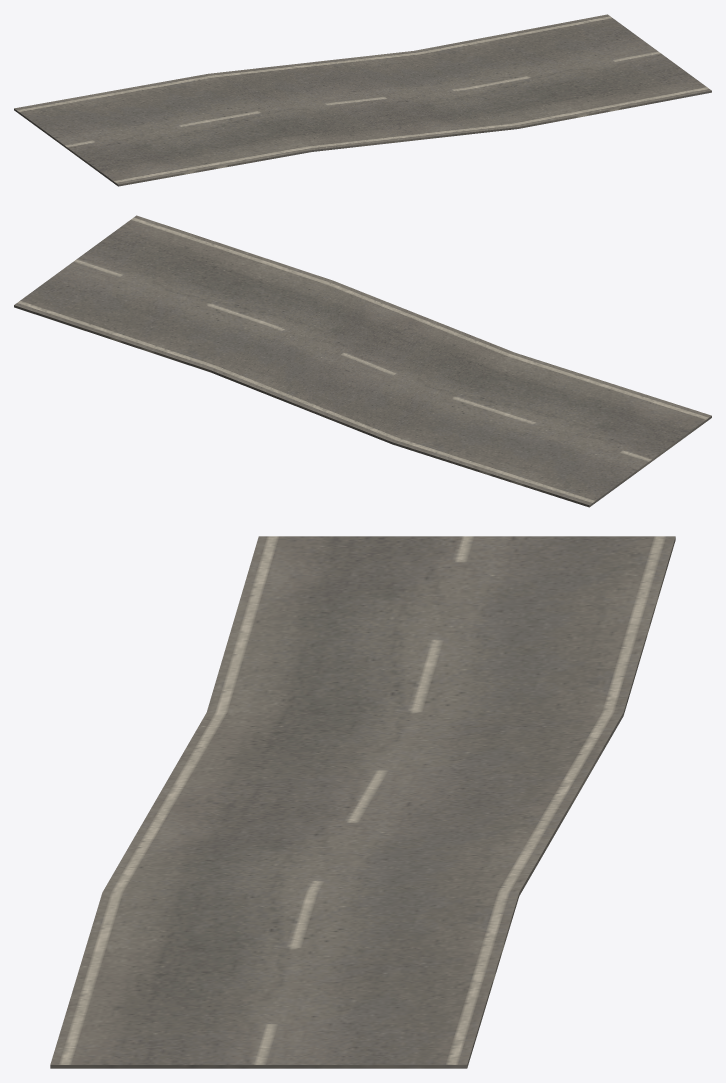
File: Urban_Road4SheerNoSides_Model.fbx
The picture shows the model from 3 angles, top to bottom: view 1: azimuth 30°, elevation 25°; view 2: azimuth 150°, elevation 25°; view 3: azimuth 270°, elevation 25°; orthographic projection. The views are drawn at different scales.
Visible parts, largest first — view 1: Urban_Road4SheerNoSides_Mesh; view 2: Urban_Road4SheerNoSides_Mesh; view 3: Urban_Road4SheerNoSides_Mesh.
Boxes of the visible parts, <box> form: Urban_Road4SheerNoSides_Mesh: <box>14,14,711,186</box>; Urban_Road4SheerNoSides_Mesh: <box>14,215,711,507</box>; Urban_Road4SheerNoSides_Mesh: <box>50,536,675,1068</box>.
Bounding box in the file's own units: 48 × 0.32 × 24.
